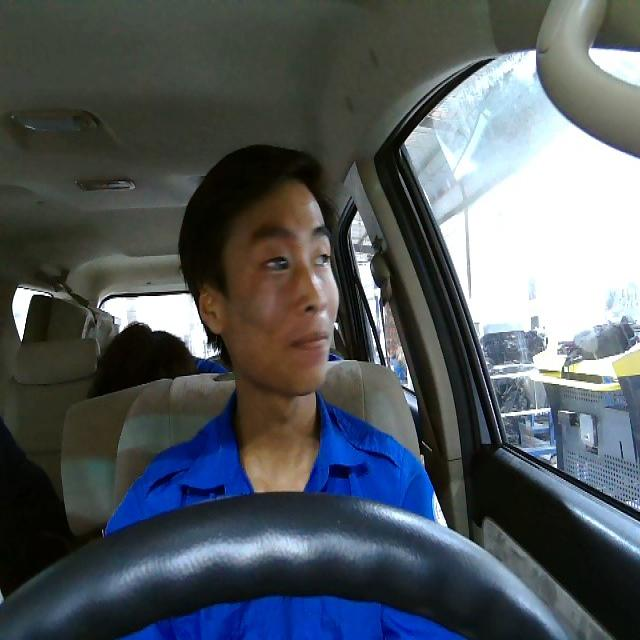seeing_right: (196, 176, 339, 396)
